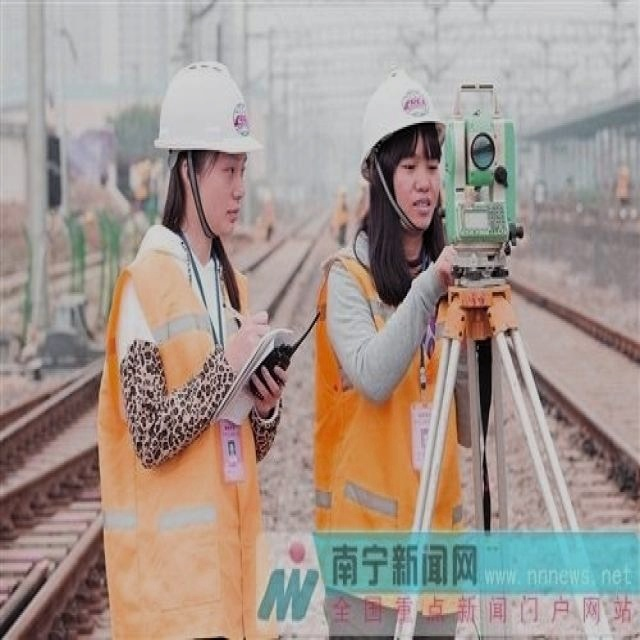Con_Casco: (157, 55, 253, 226), (361, 74, 443, 227)
